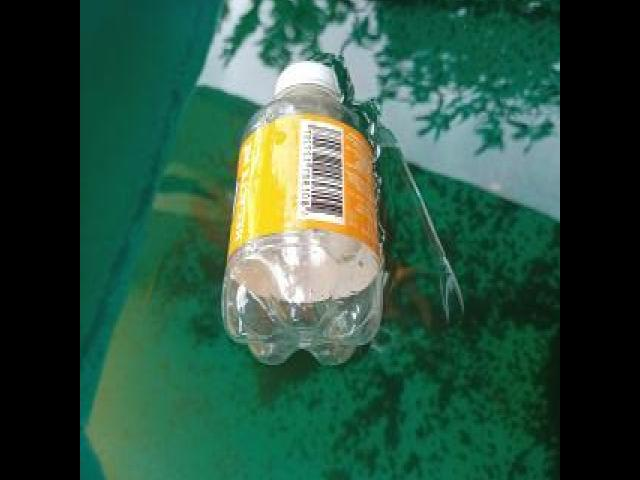Bottle: (220, 58, 386, 368)
